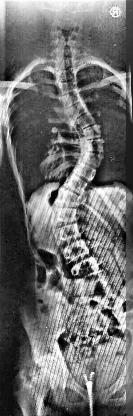Vertebrae: (70, 257, 104, 279), (61, 242, 91, 262), (50, 207, 79, 226), (52, 226, 84, 242), (62, 174, 89, 192), (53, 190, 83, 206), (72, 163, 98, 179), (79, 152, 105, 166), (81, 126, 105, 140), (75, 113, 97, 127), (82, 139, 104, 153), (58, 94, 81, 107), (67, 102, 88, 116), (56, 82, 78, 94), (56, 70, 76, 82), (55, 57, 74, 69)
